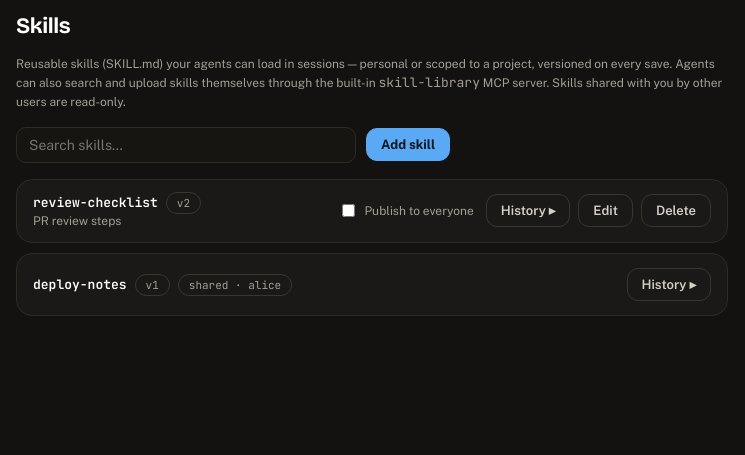
Scenario: SkillsPane › previews an old version inline
The image size is (745, 455).
Click the button "History ▸" next to "Publish to everyone".
click(528, 210)  # box 486,194 -> 570,227
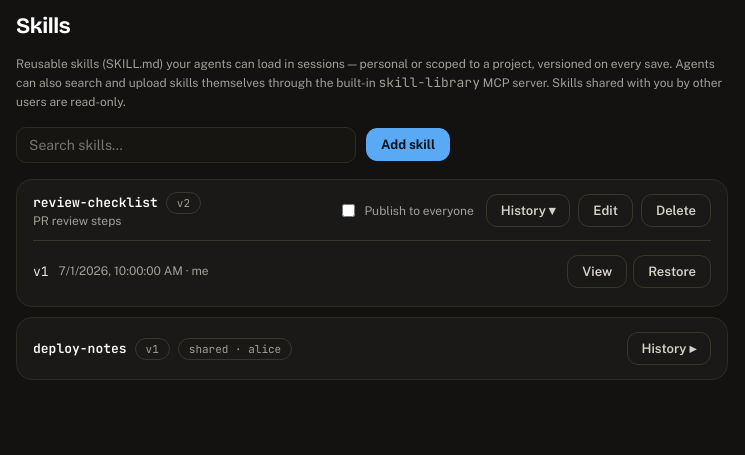
Click the button "View".
click(597, 271)  # box 567,254 -> 627,288
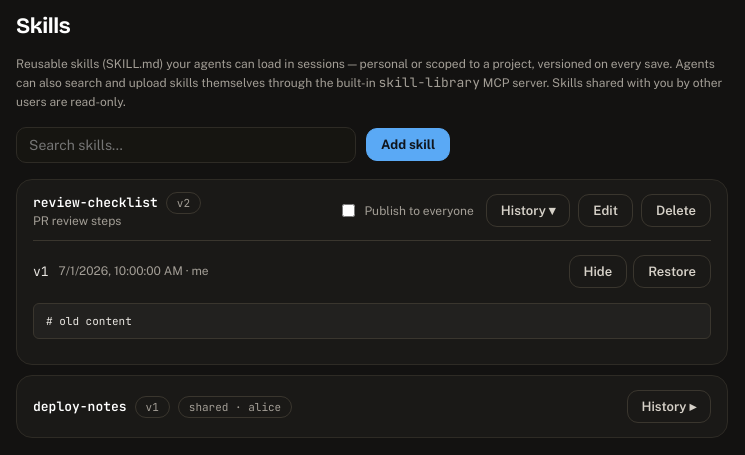
Now the text "# old content" is shown, box 33,302 -> 711,338
